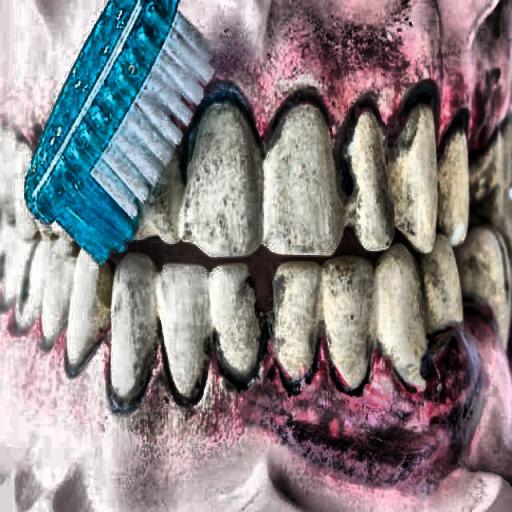Caries: (386, 61, 494, 158), (299, 120, 379, 214)
